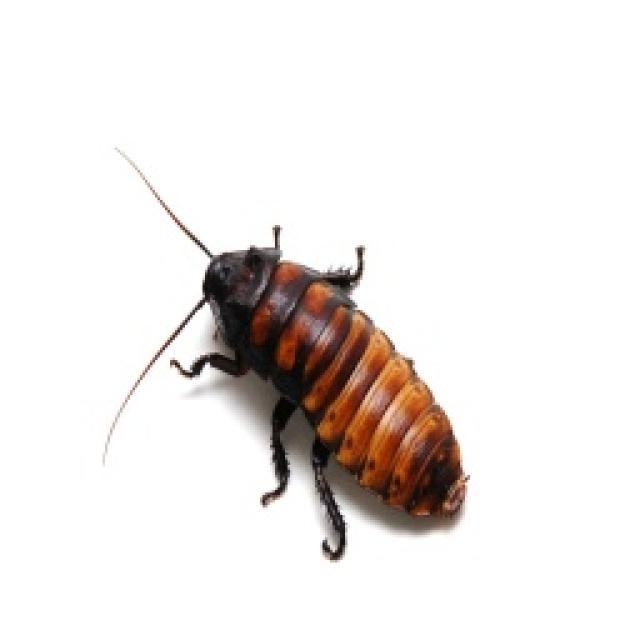cockroach: (98, 143, 475, 564)
